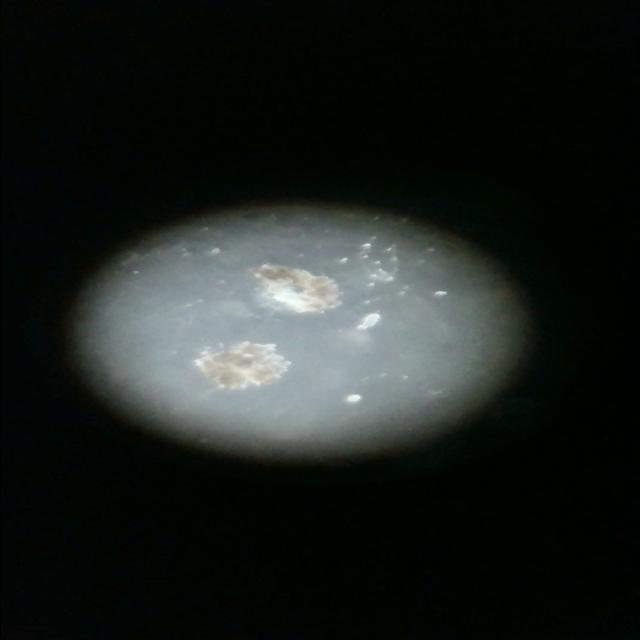alexandrium: (240, 260, 356, 314), (188, 337, 300, 391)
